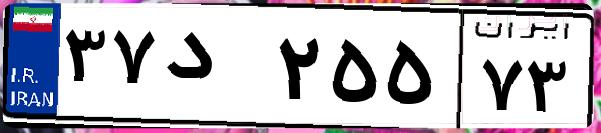2: (270, 28, 330, 110)
3: (57, 26, 110, 100), (525, 38, 570, 115)
5: (385, 28, 445, 110), (330, 28, 385, 110)
7: (475, 38, 525, 113), (110, 28, 158, 98)
د: (158, 20, 270, 120)
